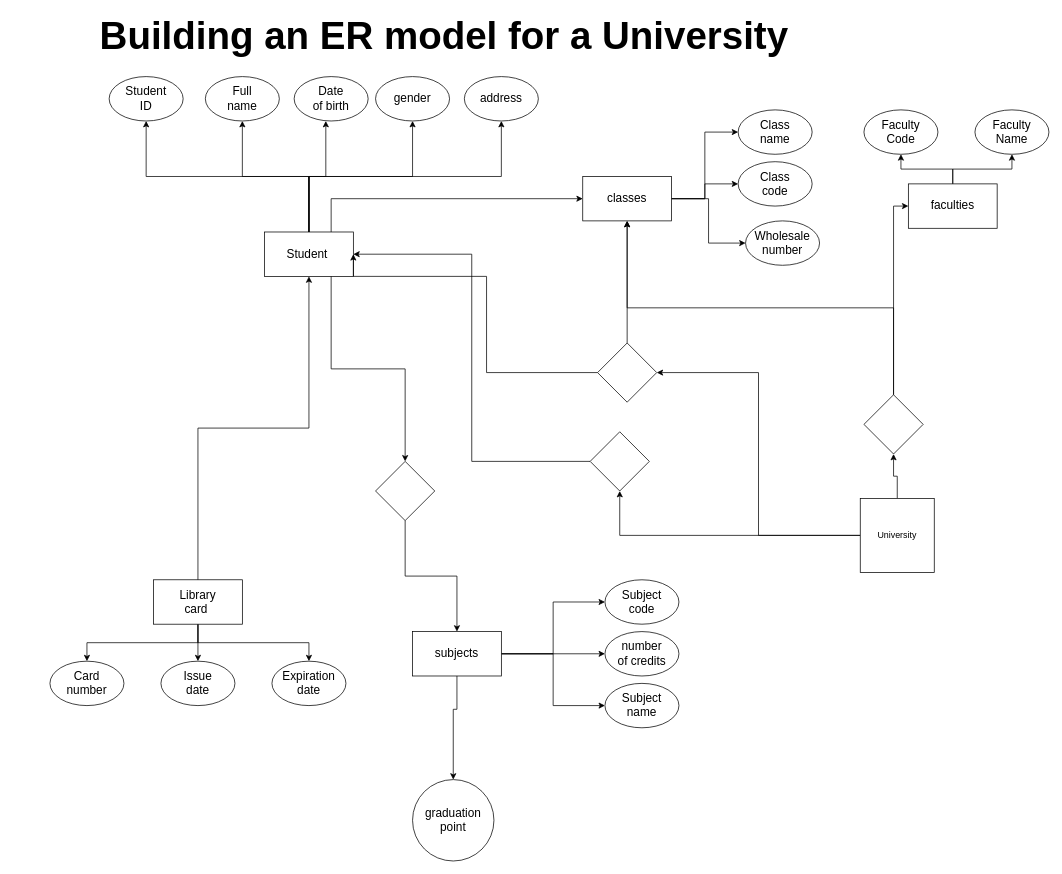
This 1062x874 diagram has some shape labels left out. The shapes that lost their labels are listed below. From the top down, each one's centre as x and y in pixels, then its label:
pixel 627 372: Place
pixel 893 424: Manage
pixel 619 461: Admit
pixel 405 491: Study
